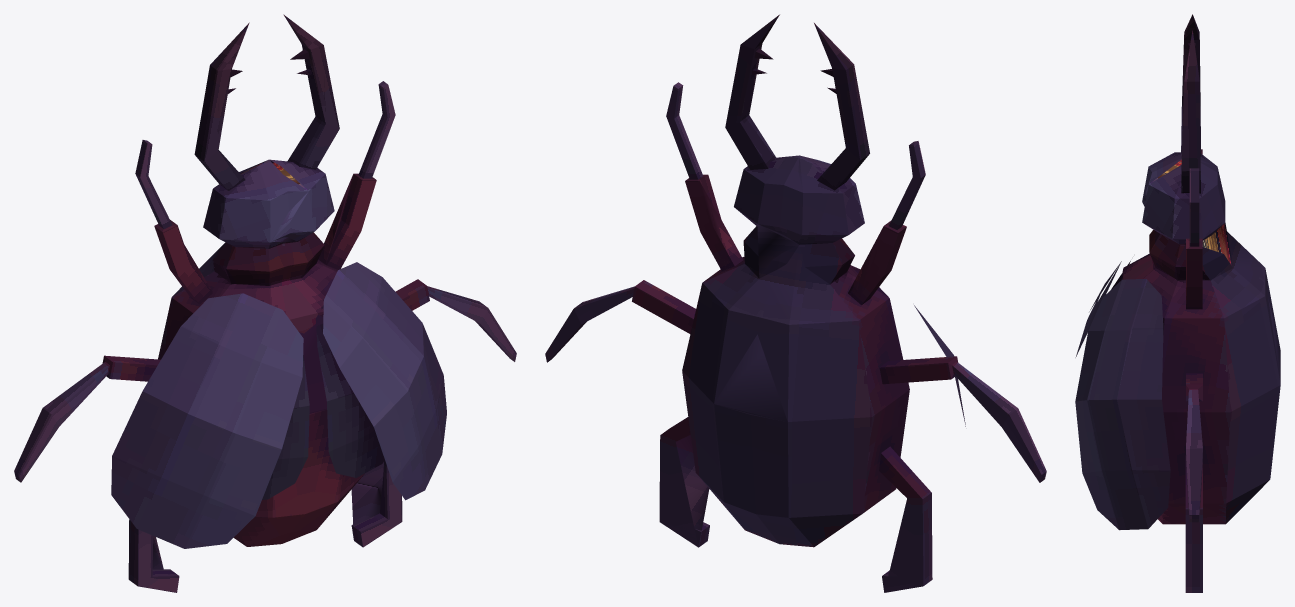
The model's file is item_bait_beetle.glb.
The picture shows the model from 3 angles, left to right: view 1: azimuth 30°, elevation 25°; view 2: azimuth 150°, elevation 25°; view 3: azimuth 270°, elevation 25°; orthographic projection. The views are drawn at different scales.
Visible parts, largest first — view 1: Bait_beetle; view 2: Bait_beetle; view 3: Bait_beetle.
Boxes of the visible parts, bbox=[...] form: Bait_beetle: bbox=[14, 14, 516, 592]; Bait_beetle: bbox=[545, 14, 1046, 592]; Bait_beetle: bbox=[1075, 14, 1280, 592].
Bounding box in the file's own units: 0.1756 × 0.1853 × 0.0657.
Materials: 1 (1 with a texture image).
